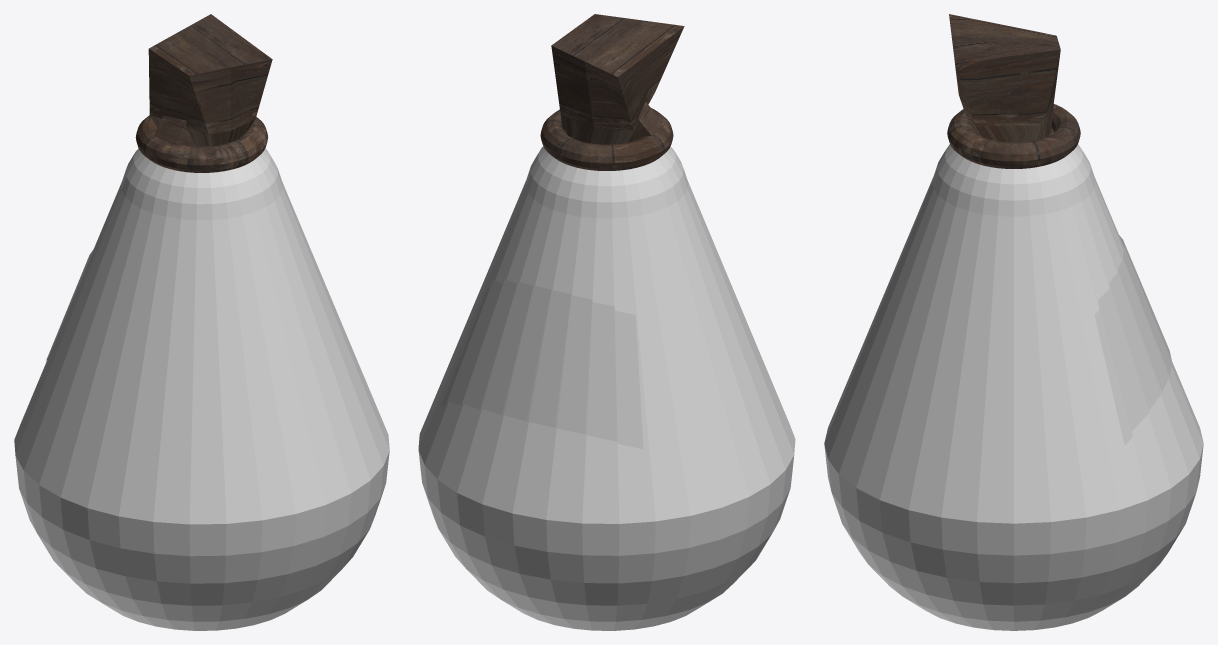
Rendered from хуй.fbx.
The picture shows the model from 3 angles, left to right: view 1: azimuth 30°, elevation 25°; view 2: azimuth 150°, elevation 25°; view 3: azimuth 270°, elevation 25°; orthographic projection.
Visible parts, largest first — view 1: Torus; view 2: Torus; view 3: Torus.
Part boxes in pixels (x1=…): Torus: x1=14, y1=14, x2=389, y2=630; Torus: x1=418, y1=14, x2=795, y2=630; Torus: x1=824, y1=14, x2=1203, y2=630.
Bounding box in the file's own units: 200 × 321 × 200.
